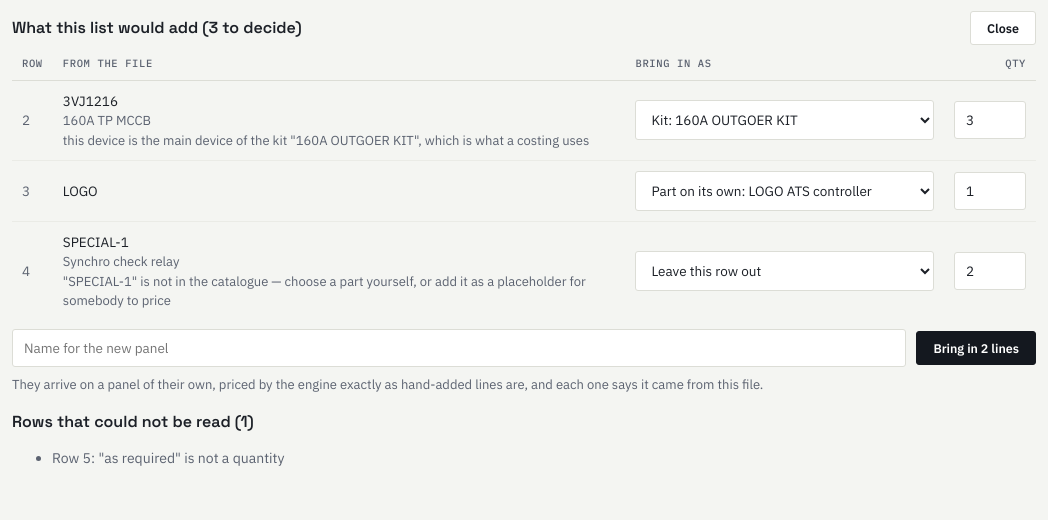
Test: the parts-list review › reports a refusal from the database in its own words
Click the button "Bring in 2 lines". click: (976, 348)
box: x1=916 y1=331 x2=1036 y2=365
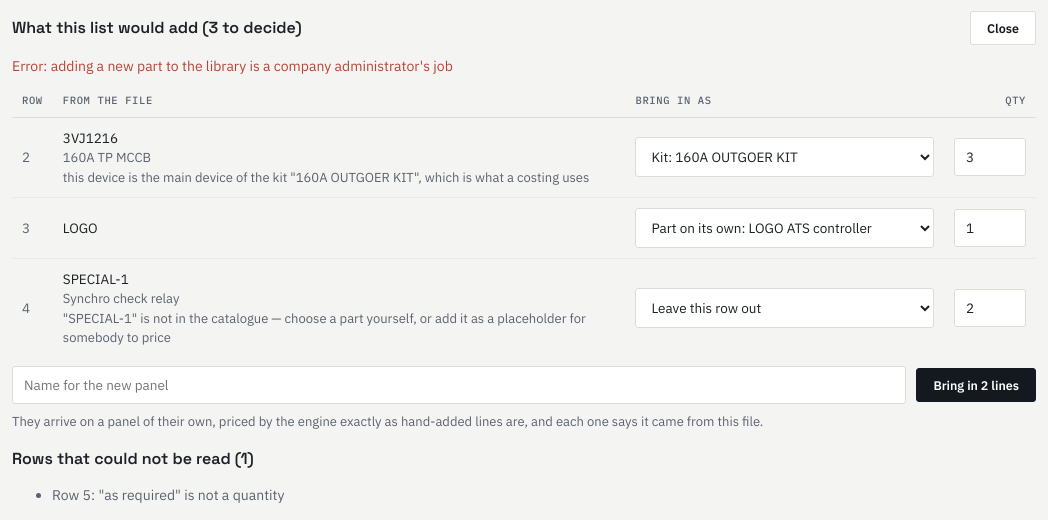
expect the text "company administrator's job" is shown: met, box x1=12 y1=57 x2=453 y2=75
